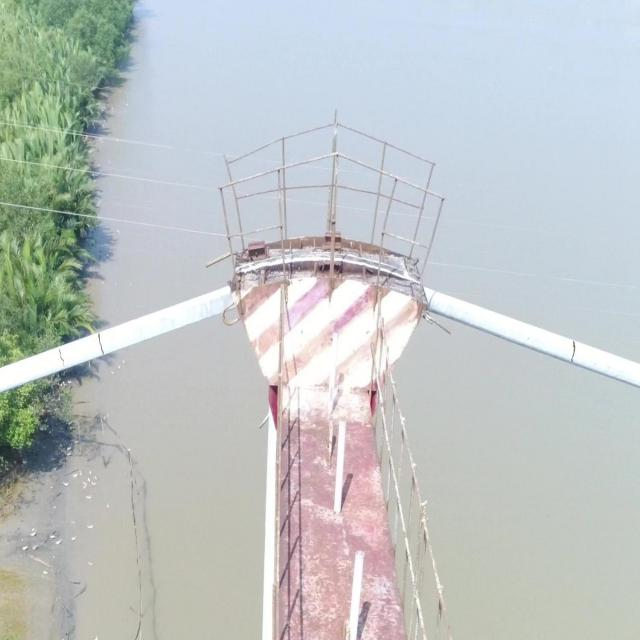crack: (97, 333, 104, 356), (58, 348, 65, 367), (570, 340, 576, 362)
